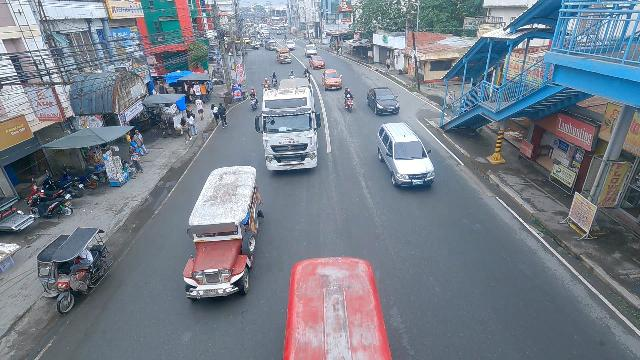car: (377, 122, 435, 186), (367, 87, 400, 114), (322, 68, 343, 89)
jeepney: (183, 165, 263, 299), (276, 46, 291, 62), (264, 38, 278, 51)
motorcycle: (345, 87, 354, 111), (249, 88, 258, 110), (310, 55, 325, 68), (304, 67, 312, 84), (271, 71, 277, 87), (289, 69, 295, 79)
truck: (255, 77, 321, 170), (304, 44, 317, 57)
van: (285, 40, 296, 50)
